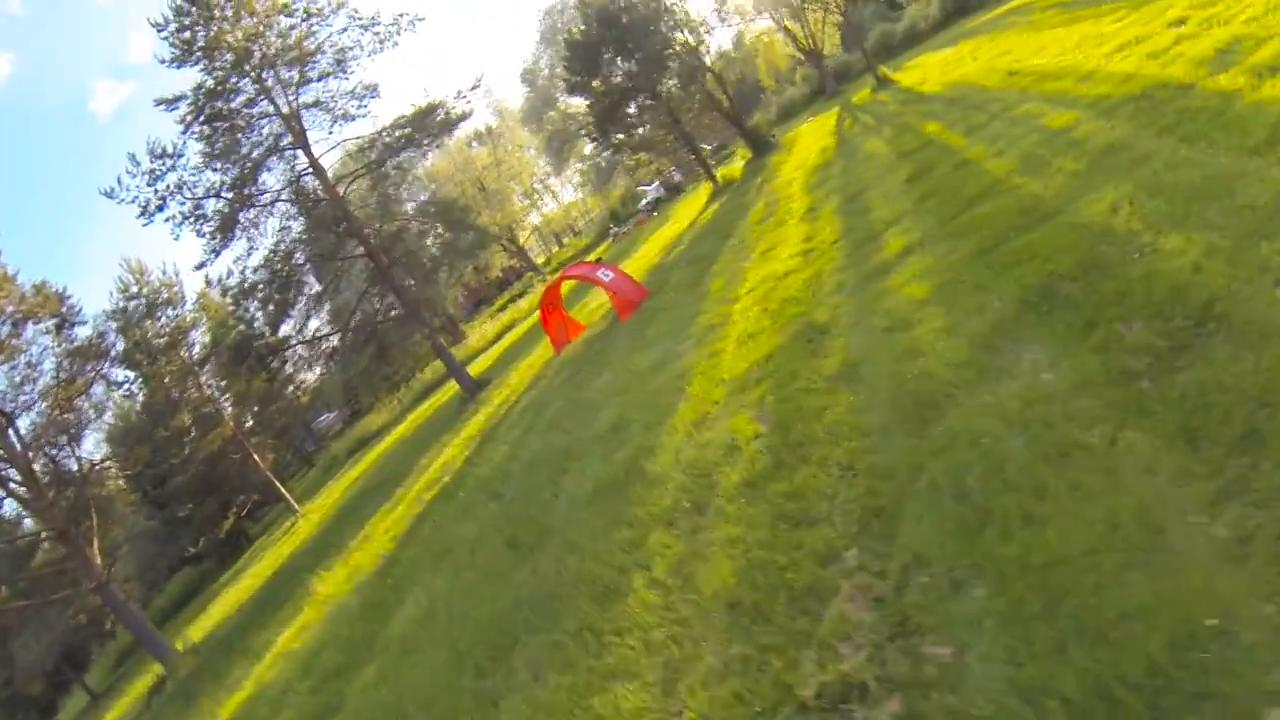gate: (535, 260, 652, 360)
